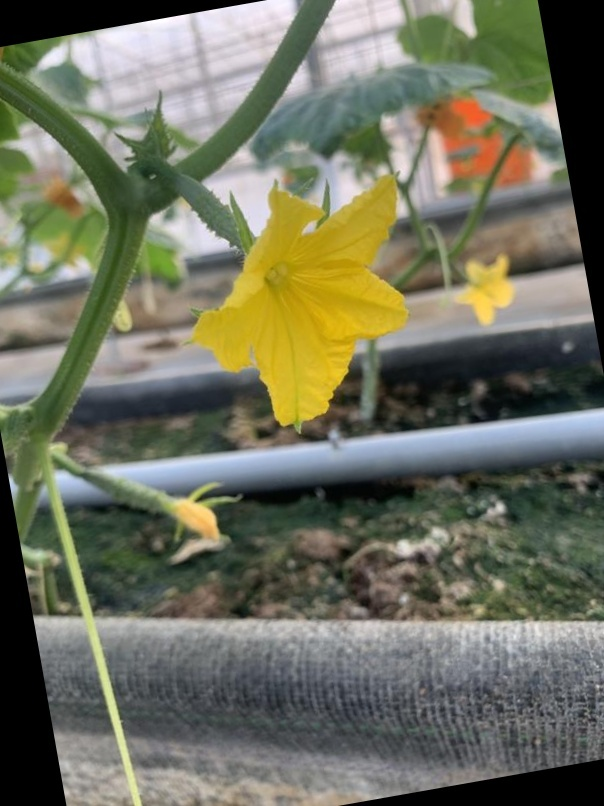flowering: (138, 140, 418, 440)
